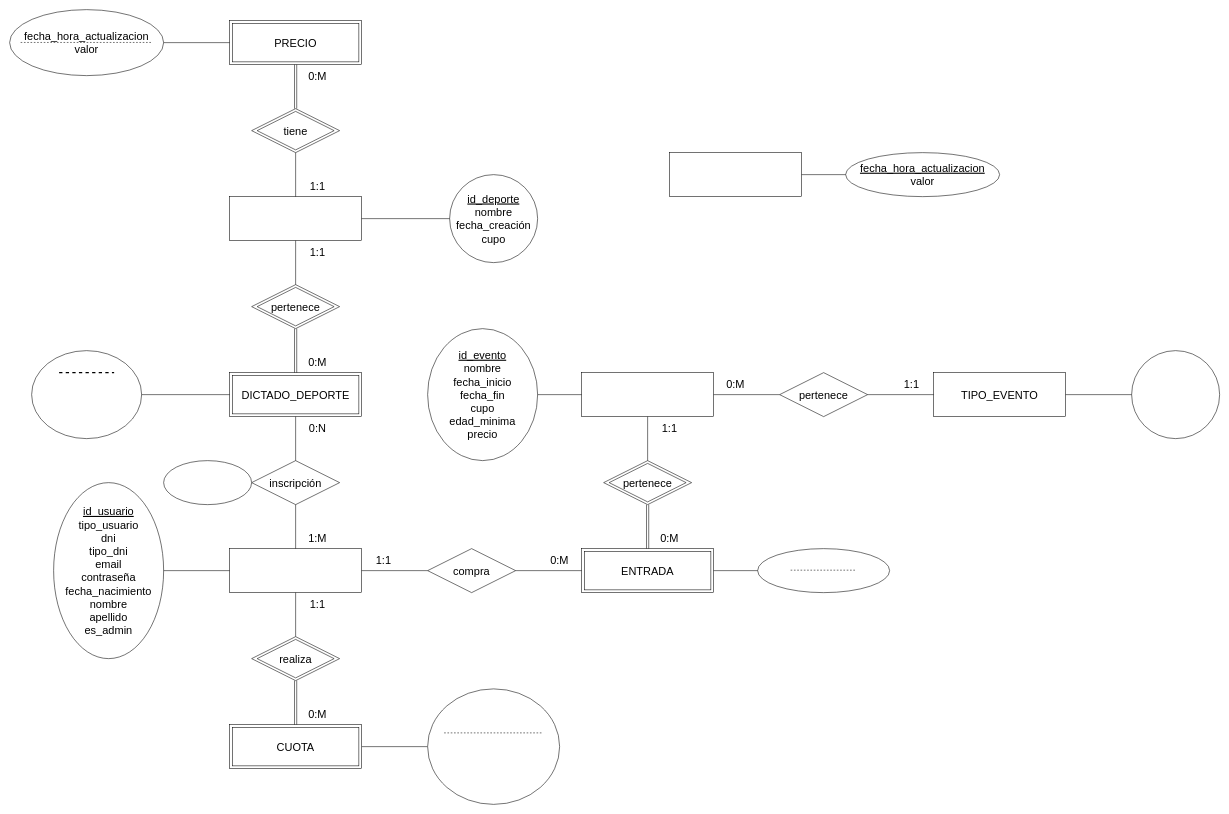
Image size: 1229x814. Some labels were removed from this diagram. The shapes that lost their labels are listed below. From the top down, each one's centre as x and y in pixels, then its label:
At (x=735, y=174): "PRECIO_CUOTA".
At (x=295, y=218): "DEPORTE".
At (x=86, y=394): "nro_curso horario nombre_profesor fecha_ini fecha_fin".
At (x=647, y=394): "EVENTO".
At (x=1175, y=394): "id_tipo_evento descripcion".
At (x=207, y=482): "estado fecha_insc".
At (x=295, y=570): "USUARIO".
At (x=823, y=570): "nro_entrada fecha_hora_compra".
At (x=493, y=746): "fecha_hora_emision fecha_hora_pago 1_vencimiento 2_vencimiento monto".
